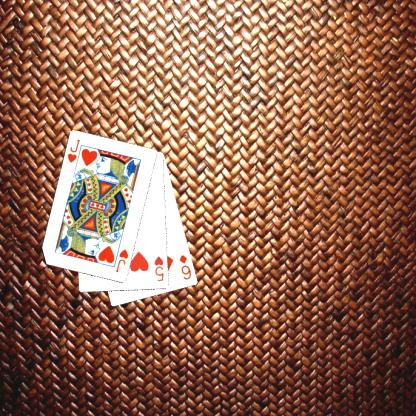5H: (152, 254, 165, 283)
6D: (176, 252, 193, 281)
JH: (113, 246, 130, 274), (65, 137, 81, 164)
